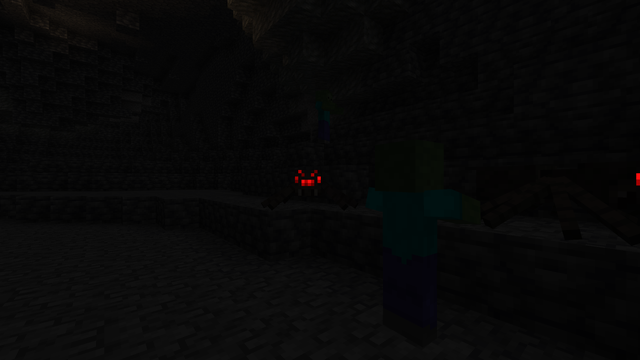araignees: (483, 151, 608, 241), (266, 164, 354, 213)
zombies: (368, 143, 449, 357), (313, 89, 334, 144)
